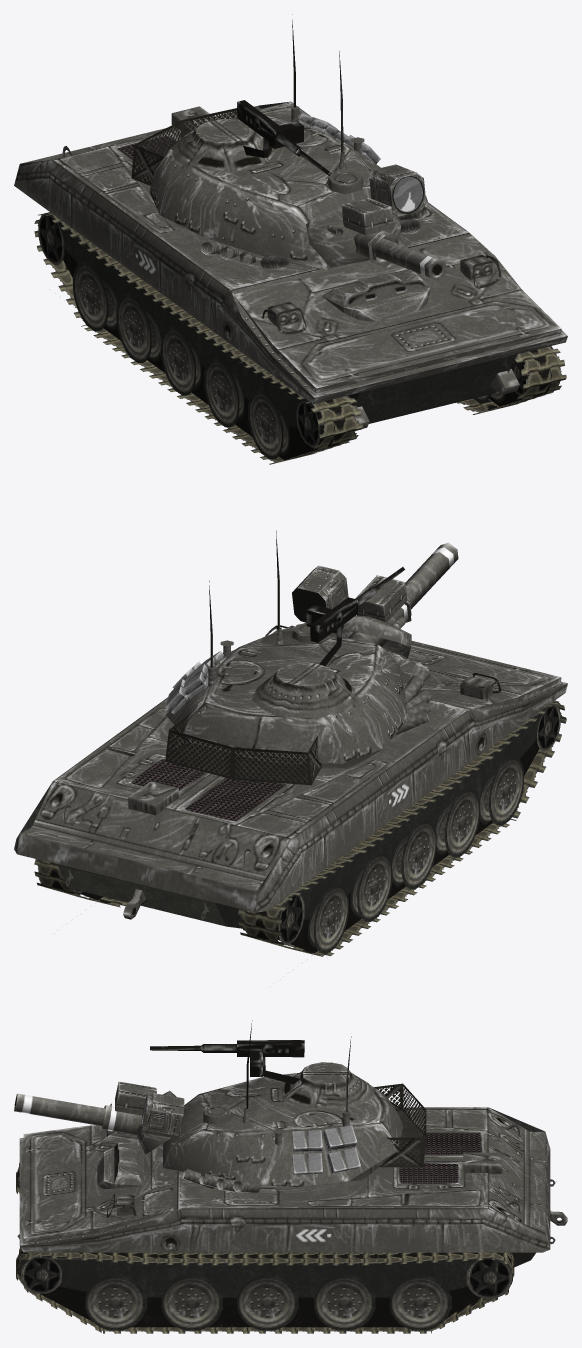
The picture shows the model from 3 angles, top to bottom: view 1: azimuth 30°, elevation 25°; view 2: azimuth 150°, elevation 25°; view 3: azimuth 270°, elevation 25°; orthographic projection. The views are drawn at different scales.
Parts seen in each view (by area): view 1: M551Sheridan, tower, wheels, cannon01, Object011, Object009, Object010, Object012, Object013, can, Object014, Object008; view 2: M551Sheridan, tower, wheels, cannon01, Object009, Object010, Object012, Object013, Object011, can, Object014, Object008; view 3: M551Sheridan, tower, wheels, cannon01, Object006, Object004, Object002, Object003, Object005, can, Object007, Object001.
Part boxes in pixels (x1,y1,x2,y2): M551Sheridan: [14, 101, 567, 428]; tower: [131, 100, 428, 269]; wheels: [34, 212, 566, 464]; cannon01: [306, 164, 426, 267]; Object011: [160, 326, 195, 395]; Object009: [248, 390, 283, 459]; Object010: [204, 358, 239, 427]; Object012: [116, 294, 151, 362]; Object013: [73, 262, 108, 331]; can: [375, 238, 446, 280]; Object014: [38, 213, 64, 265]; Object008: [296, 401, 320, 447]; M551Sheridan: [14, 622, 567, 928]; tower: [165, 567, 432, 785]; wheels: [34, 700, 566, 956]; cannon01: [292, 565, 411, 657]; Object009: [488, 756, 523, 825]; Object010: [445, 788, 480, 857]; Object012: [357, 852, 392, 921]; Object013: [313, 884, 348, 953]; Object011: [401, 820, 436, 889]; can: [405, 542, 458, 609]; Object014: [278, 894, 304, 945]; Object008: [537, 704, 560, 751]; M551Sheridan: [17, 1107, 567, 1267]; tower: [150, 1040, 426, 1193]; wheels: [16, 1162, 514, 1333]; cannon01: [101, 1081, 184, 1154]; Object006: [389, 1275, 451, 1330]; Object004: [237, 1275, 298, 1330]; Object002: [85, 1275, 146, 1330]; Object003: [161, 1275, 222, 1330]; Object005: [314, 1275, 375, 1330]; can: [14, 1093, 105, 1126]; Object007: [466, 1257, 511, 1298]; Object001: [21, 1256, 61, 1293].
Size of the model in its own units: 51.17 by 61.43 by 111.
Materials: 1 (1 with a texture image).
